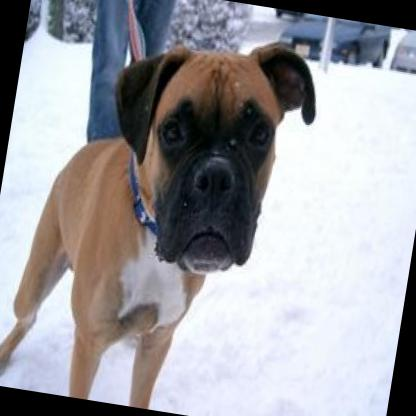boxer: (0, 0, 333, 416)
